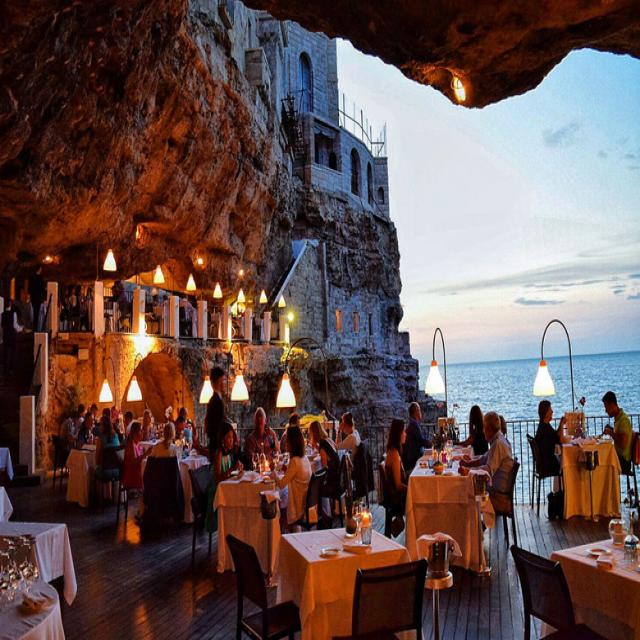person: (598, 386, 638, 489), (378, 422, 422, 514), (529, 396, 574, 479), (279, 434, 319, 526), (475, 413, 516, 499), (306, 416, 346, 502), (208, 426, 245, 510), (243, 400, 282, 465), (410, 392, 440, 467), (333, 405, 366, 468), (203, 369, 234, 432), (122, 424, 151, 491), (94, 419, 122, 487), (150, 417, 180, 470), (59, 402, 87, 455), (465, 396, 486, 456), (173, 410, 198, 460), (78, 407, 100, 453), (140, 398, 156, 439), (119, 404, 136, 435)
